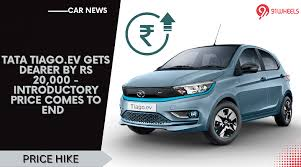Tiago: (118, 43, 295, 148)
